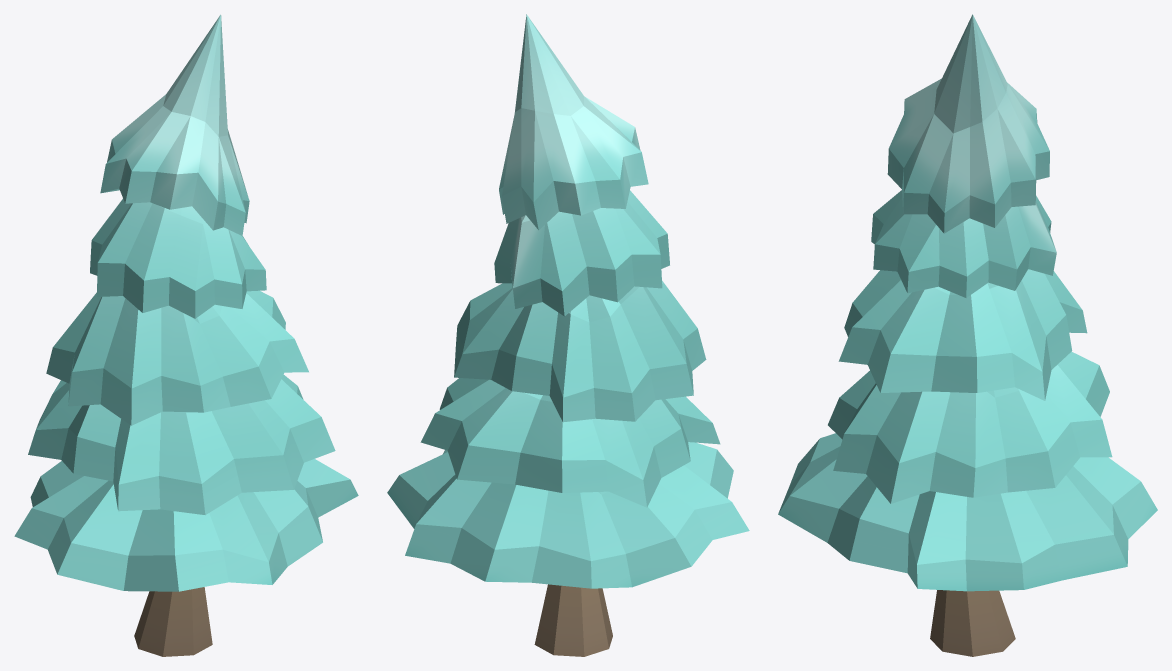
File: Tree_Fern_Tall_Winter.fbx
3 renders of one model, left to right at view 1: azimuth 30°, elevation 25°; view 2: azimuth 150°, elevation 25°; view 3: azimuth 270°, elevation 25°, orthographic. The views are drawn at different scales.
Visible parts, largest first — view 1: Tree_Fern_Tall_Winter; view 2: Tree_Fern_Tall_Winter; view 3: Tree_Fern_Tall_Winter.
Boxes of the visible parts, box(x1,y1,x2,y2) form: Tree_Fern_Tall_Winter: box(14, 14, 358, 656); Tree_Fern_Tall_Winter: box(387, 14, 749, 656); Tree_Fern_Tall_Winter: box(778, 14, 1157, 656).
Size of the model in its own units: 286 by 544 by 288.
